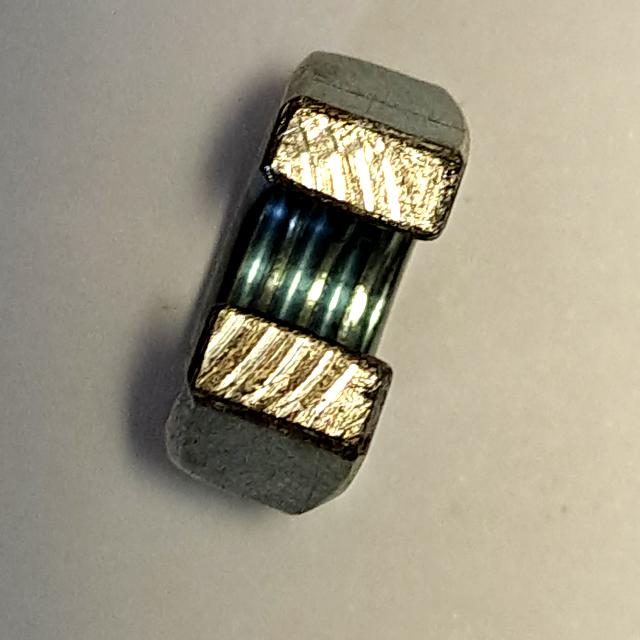Side-Fracture: (139, 38, 479, 534)
